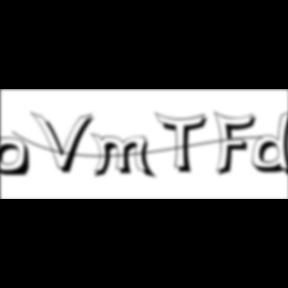F: (214, 110, 262, 178)
T: (155, 112, 213, 176)
V: (32, 110, 98, 176)
m: (91, 132, 159, 181)
o: (1, 137, 34, 179)
